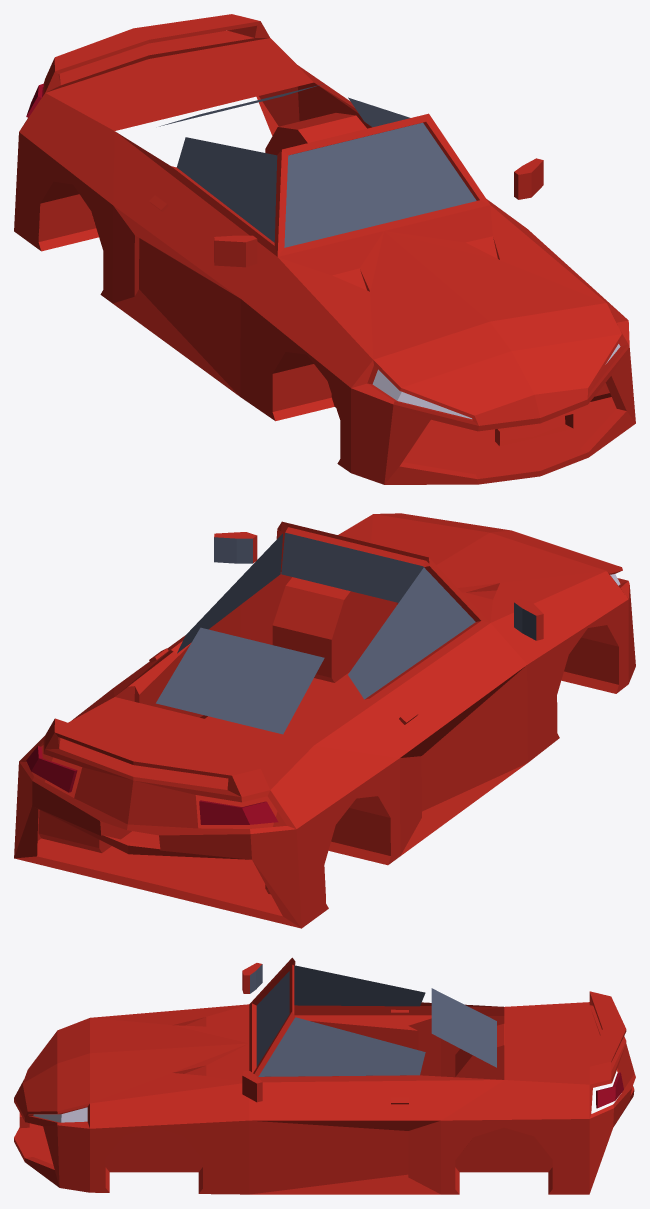
The model's file is Sports.glb.
The picture shows the model from 3 angles, top to bottom: view 1: azimuth 30°, elevation 25°; view 2: azimuth 150°, elevation 25°; view 3: azimuth 270°, elevation 25°; orthographic projection. The views are drawn at different scales.
Parts seen in each view (by area): view 1: Sports; view 2: Sports; view 3: Sports.
Boxes of the visible parts, <box> form: Sports: <box>14,14,635,484</box>; Sports: <box>14,513,635,928</box>; Sports: <box>14,957,635,1194</box>.
Bounding box in the file's own units: 263 × 160 × 573.
